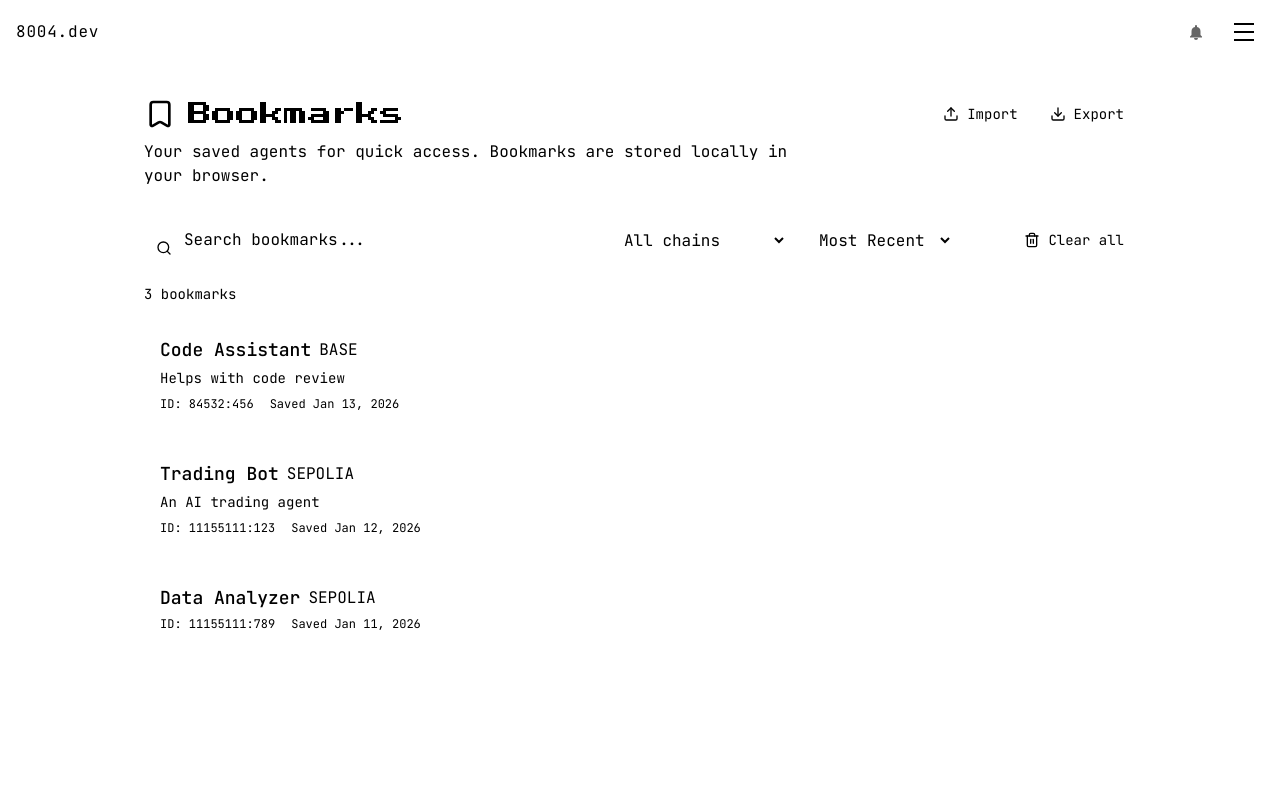
Test: BookmarksPage › displays no matching bookmarks message
Type "nonexistent" into the field with test id "search-input".
click(368, 240); type("nonexistent")  # box [144,220,592,260]
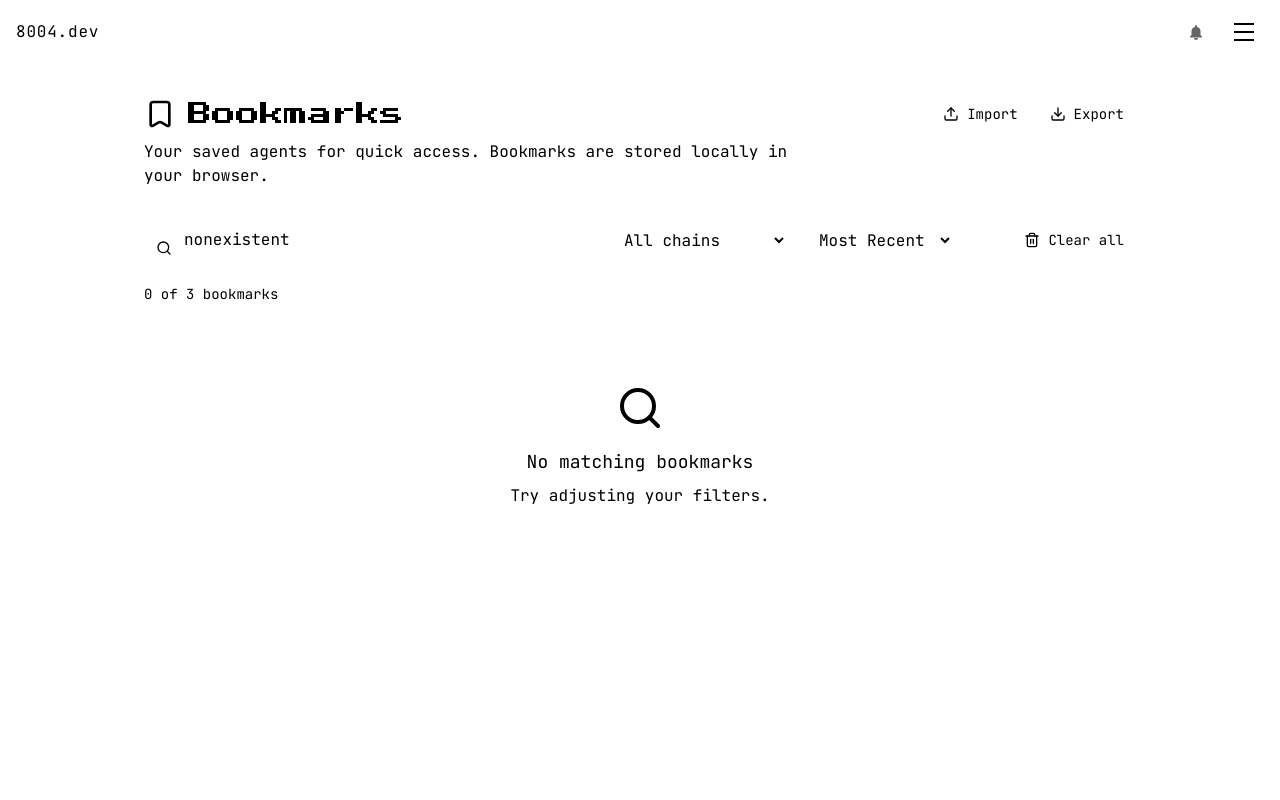
Expected: the heading "No matching bookmarks" is shown, [527,450,753,473]
